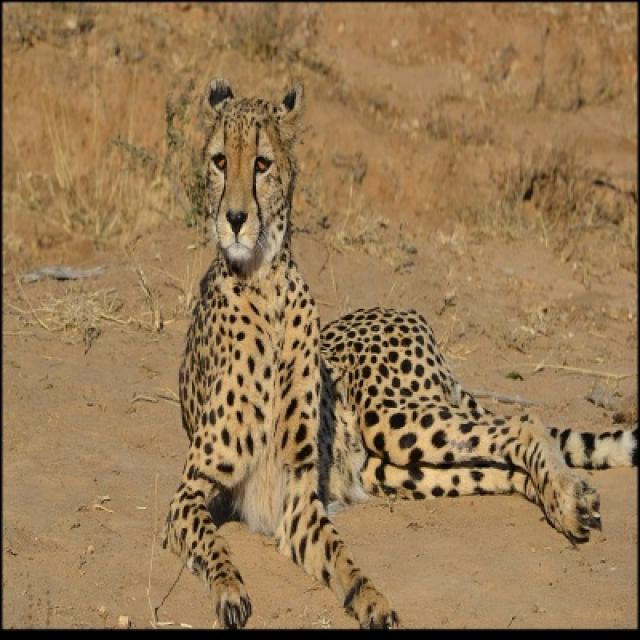Cheetah: (166, 78, 635, 630)
